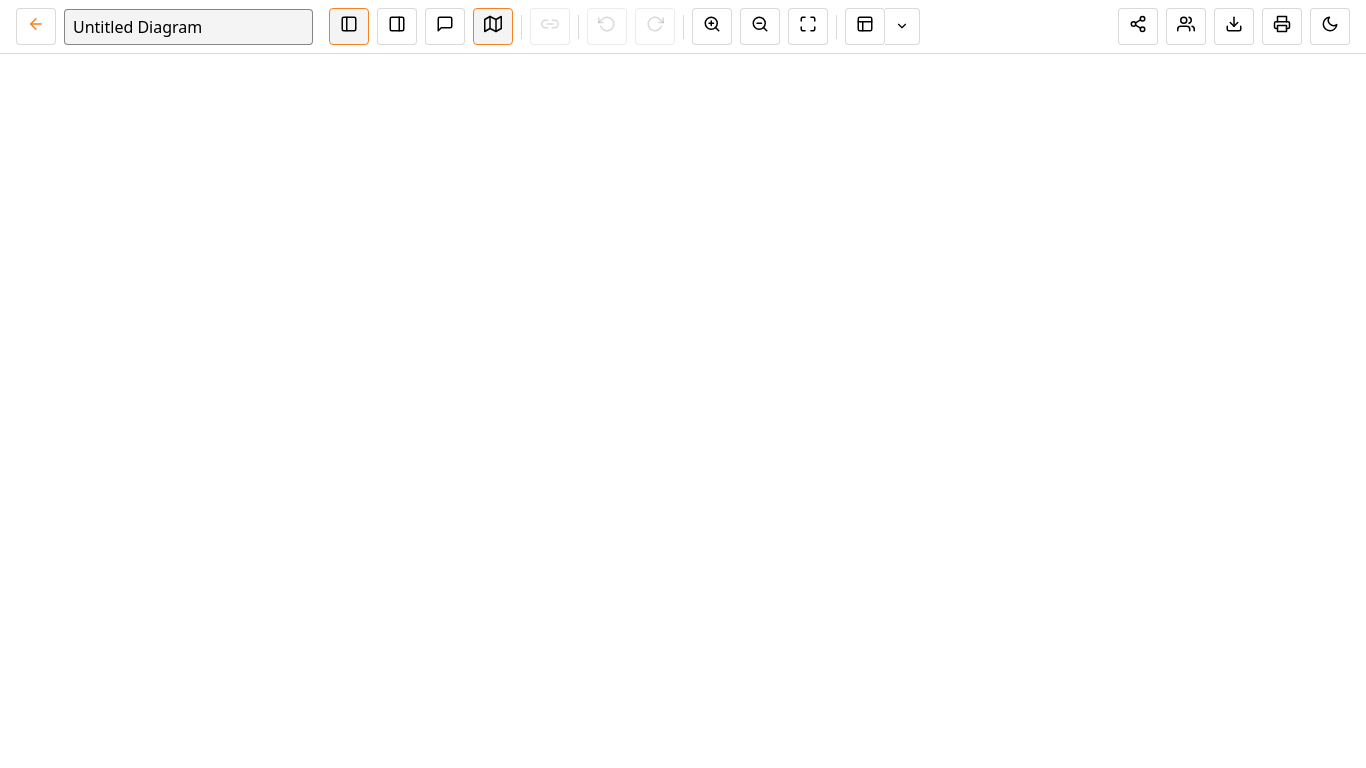
Test case: Toolbar › opens the collaborators modal for the loaded diagram
This screenshot has width=1366, height=768.
Click the button titled "Manage collaborators" at [1186, 26], box [1166,8,1206,45]
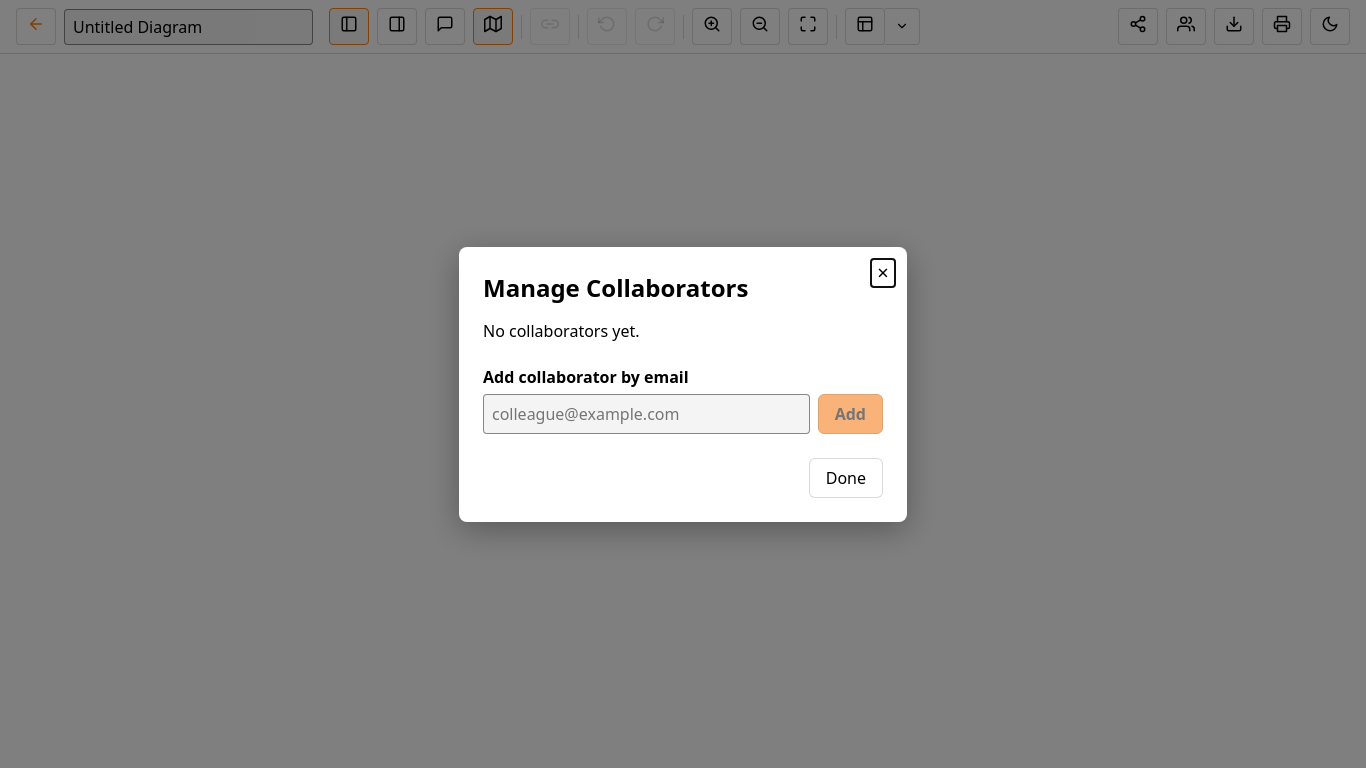
Result: the dialog is shown at [459,246,907,522]
